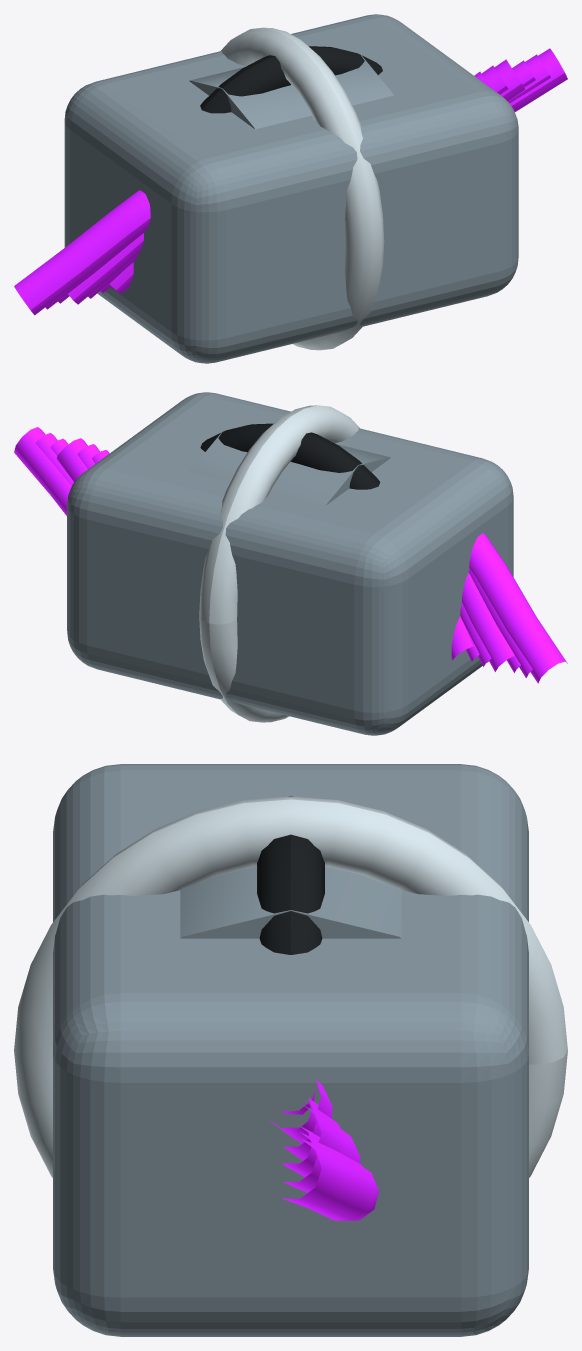
File: electrical_01.glb
The picture shows the model from 3 angles, top to bottom: view 1: azimuth 30°, elevation 25°; view 2: azimuth 150°, elevation 25°; view 3: azimuth 270°, elevation 25°; orthographic projection. The views are drawn at different scales.
Parts seen in each view (by area): view 1: asset_mesh__electrical_0008__reference_body, asset_mesh__electrical_0044__functional_ring, asset_mesh__electrical_0026__current_path, asset_mesh__electrical_0044__rotor, asset_mesh__electrical_0024__service_element, asset_mesh__electrical_0032__current_path, asset_mesh__electrical_0025__current_path, asset_mesh__electrical_0022__current_path; view 2: asset_mesh__electrical_0008__reference_body, asset_mesh__electrical_0044__functional_ring, asset_mesh__electrical_0026__current_path, asset_mesh__electrical_0044__rotor, asset_mesh__electrical_0024__service_element, asset_mesh__electrical_0032__current_path, asset_mesh__electrical_0025__current_path, asset_mesh__electrical_0022__current_path, asset_mesh__electrical_0056__current_path; view 3: asset_mesh__electrical_0008__reference_body, asset_mesh__electrical_0044__functional_ring, asset_mesh__electrical_0044__rotor, asset_mesh__electrical_0024__service_element, asset_mesh__electrical_0026__current_path, asset_mesh__electrical_0032__current_path, asset_mesh__electrical_0025__current_path.
Part boxes in pixels (<box>): asset_mesh__electrical_0008__reference_body: <box>64,14,518,363</box>; asset_mesh__electrical_0044__functional_ring: <box>221,27,384,350</box>; asset_mesh__electrical_0026__current_path: <box>14,48,567,315</box>; asset_mesh__electrical_0044__rotor: <box>189,46,393,129</box>; asset_mesh__electrical_0024__service_element: <box>200,46,382,113</box>; asset_mesh__electrical_0032__current_path: <box>68,59,525,304</box>; asset_mesh__electrical_0025__current_path: <box>45,54,550,309</box>; asset_mesh__electrical_0022__current_path: <box>88,65,508,298</box>; asset_mesh__electrical_0008__reference_body: <box>67,392,513,735</box>; asset_mesh__electrical_0044__functional_ring: <box>199,405,359,722</box>; asset_mesh__electrical_0026__current_path: <box>14,427,567,683</box>; asset_mesh__electrical_0044__rotor: <box>190,424,390,505</box>; asset_mesh__electrical_0024__service_element: <box>200,423,380,489</box>; asset_mesh__electrical_0032__current_path: <box>56,438,514,671</box>; asset_mesh__electrical_0025__current_path: <box>35,433,532,677</box>; asset_mesh__electrical_0022__current_path: <box>77,444,491,666</box>; asset_mesh__electrical_0056__current_path: <box>451,616,472,660</box>; asset_mesh__electrical_0008__reference_body: <box>53,764,528,1336</box>; asset_mesh__electrical_0044__functional_ring: <box>14,796,567,1177</box>; asset_mesh__electrical_0044__rotor: <box>180,866,401,938</box>; asset_mesh__electrical_0024__service_element: <box>257,796,324,954</box>; asset_mesh__electrical_0026__current_path: <box>281,1139,378,1220</box>; asset_mesh__electrical_0032__current_path: <box>281,1104,360,1177</box>; asset_mesh__electrical_0025__current_path: <box>283,1132,362,1192</box>.
Size of the model in its own units: 1.73 by 0.8996 by 0.8996.
